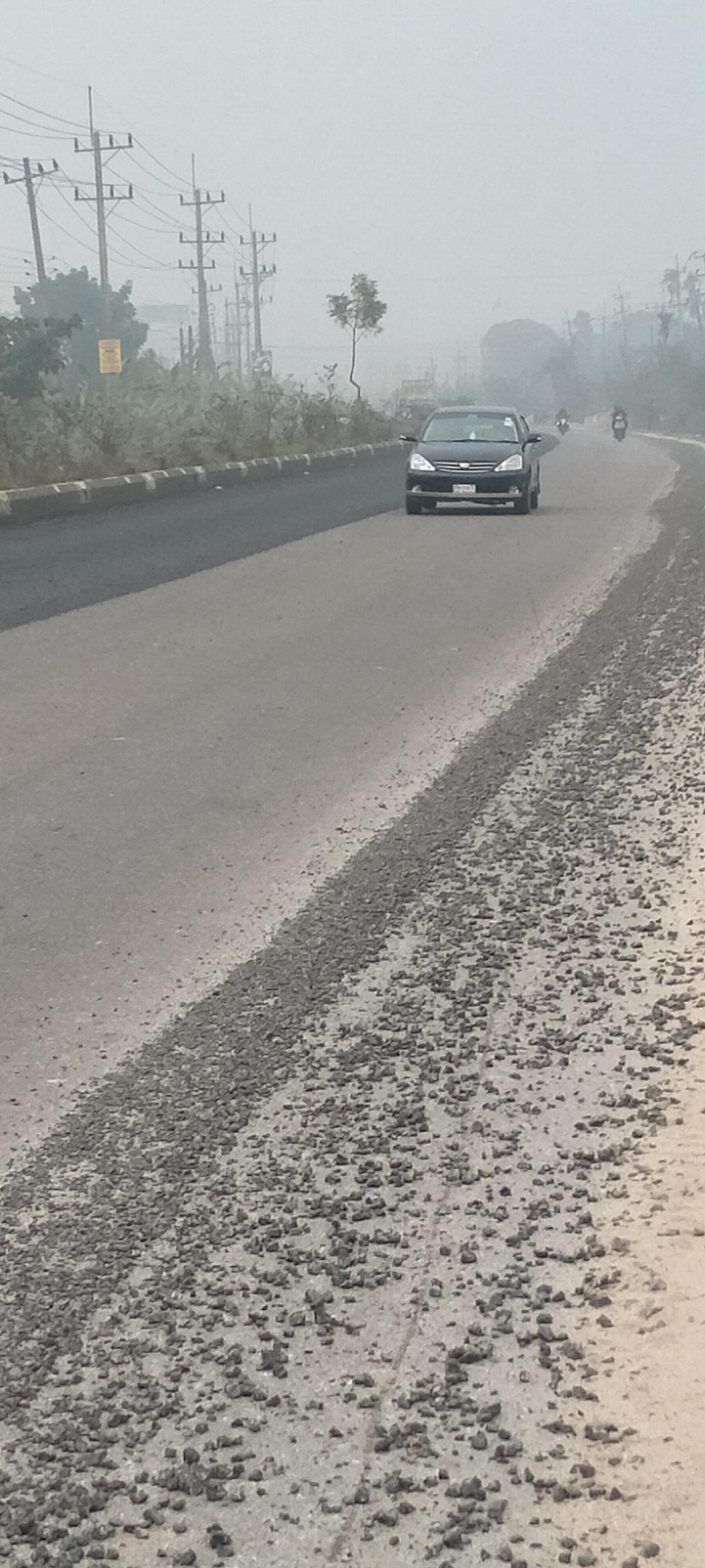Bike: (602, 398, 634, 447), (545, 403, 576, 451)
Car: (387, 385, 548, 544)
